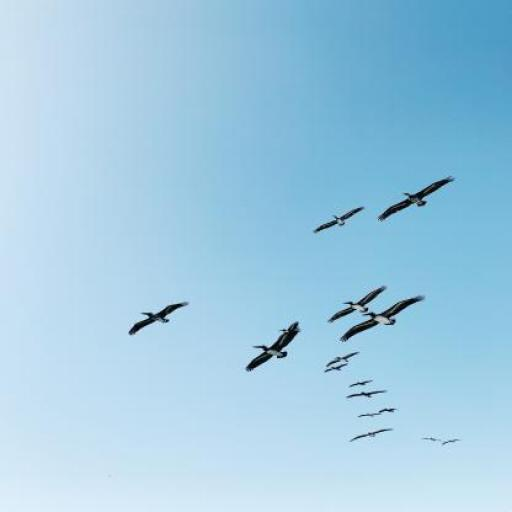bird: (340, 296, 425, 343), (377, 177, 455, 221), (245, 321, 301, 373), (327, 285, 387, 323), (128, 300, 191, 335), (314, 206, 365, 233), (350, 428, 393, 442), (325, 351, 360, 367), (347, 391, 386, 398), (325, 363, 348, 372), (348, 380, 373, 387), (358, 413, 382, 418), (443, 439, 461, 445), (379, 408, 396, 414), (423, 437, 439, 441)
